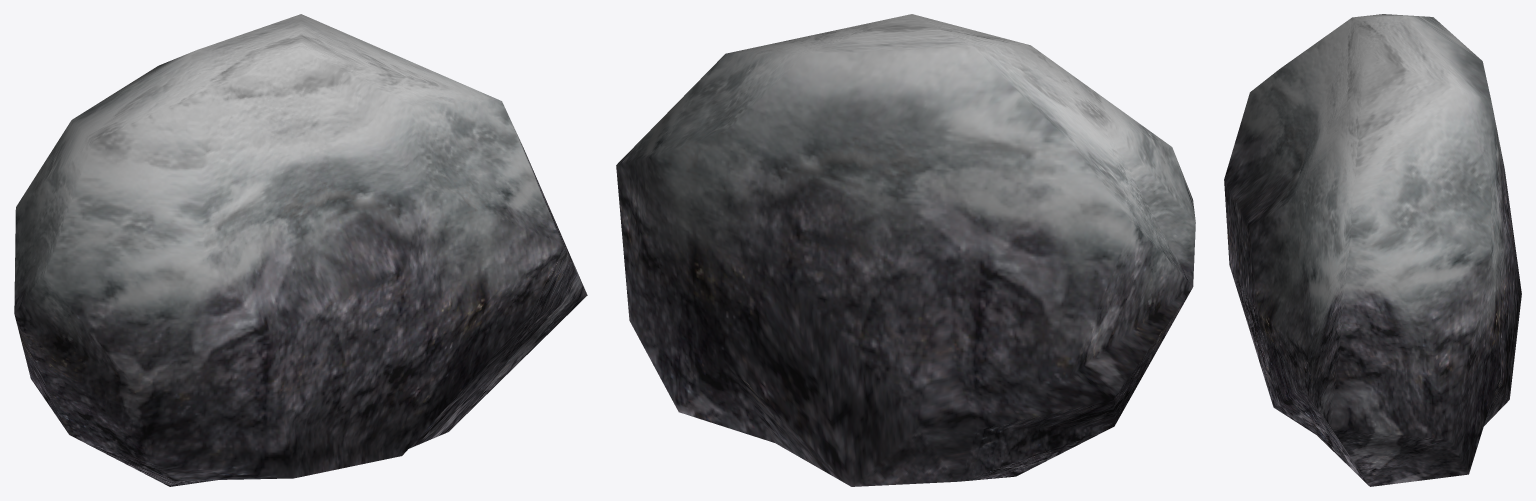
Rendered from snow_d_a08a.fbx.
3 renders of one model, left to right at view 1: azimuth 30°, elevation 25°; view 2: azimuth 150°, elevation 25°; view 3: azimuth 270°, elevation 25°, orthographic. The views are drawn at different scales.
Parts seen in each view (by area): view 1: d_a08a; view 2: d_a08a; view 3: d_a08a.
Boxes of the visible parts, x1,y1,x2,y2 form: d_a08a: [14, 14, 587, 486]; d_a08a: [616, 14, 1195, 486]; d_a08a: [1224, 14, 1521, 486].
Size of the model in its own units: 255 by 188 by 137.
